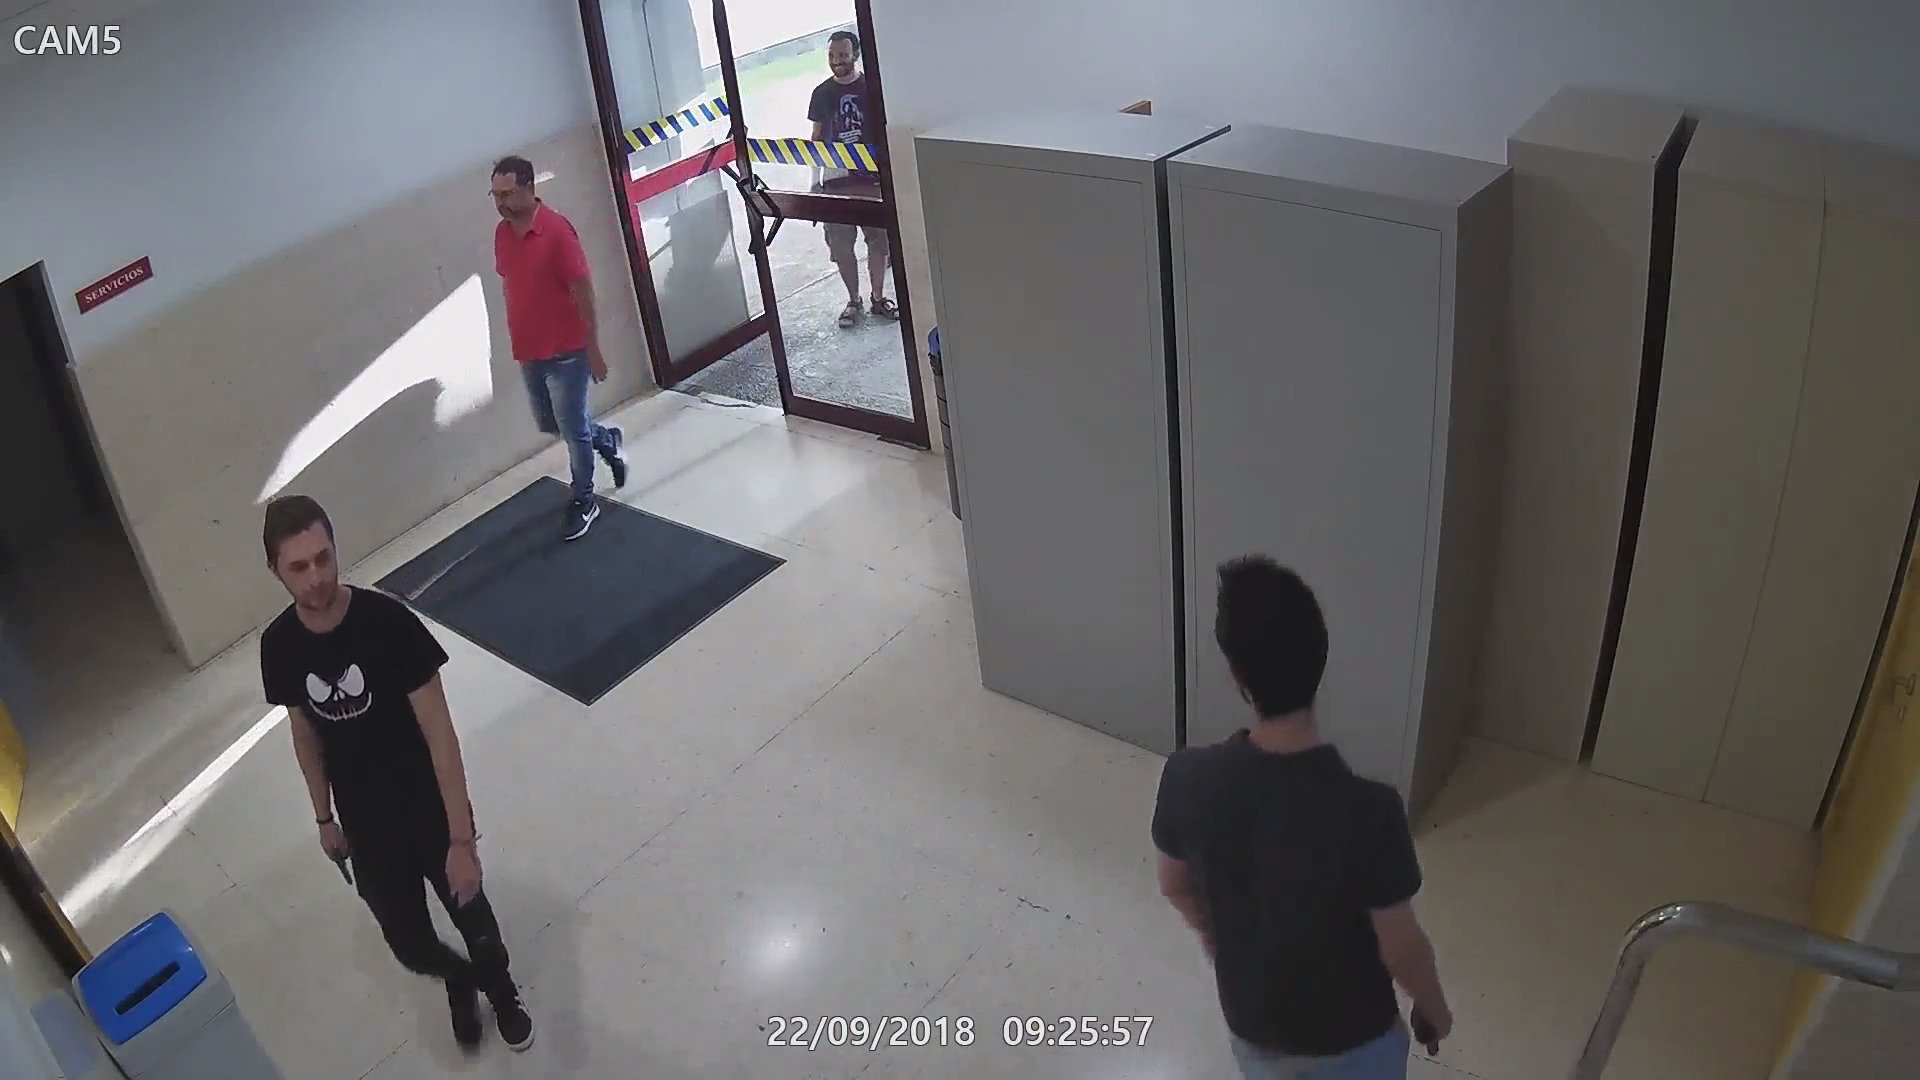Handgun: (310, 816, 357, 887), (1404, 996, 1455, 1062)
